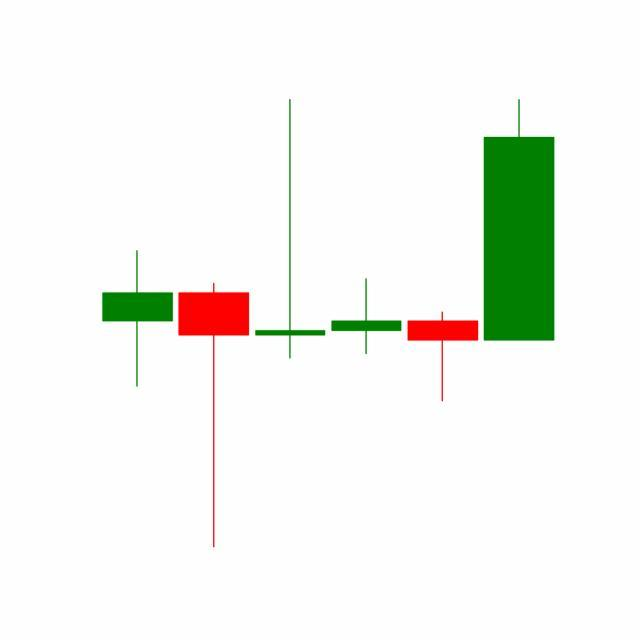Hammer: (404, 310, 482, 403)
